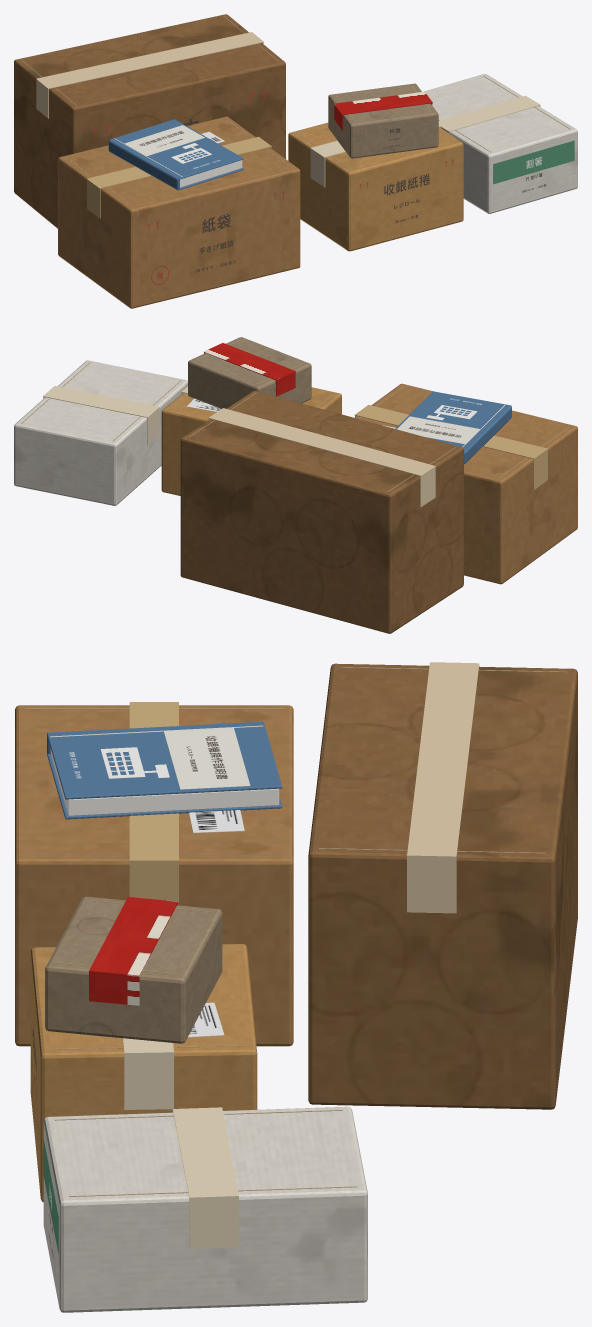
Rendered from tillboxes.glb.
3 renders of one model, top to bottom at view 1: azimuth 30°, elevation 25°; view 2: azimuth 150°, elevation 25°; view 3: azimuth 270°, elevation 25°, orthographic. The views are drawn at different scales.
Parts seen in each view (by area): view 1: TillBoxBags, TillBoxNapkins, TillBoxRolls, TillBoxChopsticks, TillBoxCoasters, TillBoxNapkinsTape, ManualCoverTop, TillBoxChopsticksBand, TillBoxChopsticksTape, TillBoxBagsTape, TillBoxCoastersTape, ManualBand (+6 smaller); view 2: TillBoxNapkins, TillBoxChopsticks, TillBoxBags, TillBoxCoasters, TillBoxRolls, TillBoxNapkinsTape, ManualCoverTop, TillBoxChopsticksTape, TillBoxBagsTape, TillBoxCoastersTape, ManualBand, ManualSpine (+2 smaller); view 3: TillBoxNapkins, TillBoxChopsticks, TillBoxBags, TillBoxRolls, TillBoxCoasters, TillBoxNapkinsTape, ManualCoverTop, TillBoxChopsticksTape, ManualBand, TillBoxCoastersTape, ManualPages, TillBoxBagsTape (+9 smaller).
Part boxes in pixels (x1,y1,x2,y2): TillBoxBags: (58, 116, 300, 308); TillBoxNapkins: (14, 14, 285, 228); TillBoxRolls: (288, 122, 463, 251); TillBoxChopsticks: (424, 74, 577, 213); TillBoxCoasters: (328, 83, 438, 158); TillBoxNapkinsTape: (36, 32, 263, 88); ManualCoverTop: (109, 119, 243, 179); TillBoxChopsticksBand: (493, 140, 574, 184); TillBoxChopsticksTape: (438, 95, 540, 131); TillBoxBagsTape: (86, 136, 271, 188); TillBoxCoastersTape: (334, 91, 432, 115); ManualBand: (124, 125, 204, 156); TillBoxNapkins: (180, 391, 463, 633); TillBoxChopsticks: (14, 360, 187, 505); TillBoxBags: (354, 383, 577, 584); TillBoxCoasters: (188, 337, 311, 408); TillBoxRolls: (161, 387, 341, 495); TillBoxNapkinsTape: (208, 408, 435, 476); ManualCoverTop: (395, 391, 511, 452); TillBoxChopsticksTape: (43, 386, 159, 417); TillBoxBagsTape: (355, 405, 547, 459); TillBoxCoastersTape: (204, 343, 295, 380); ManualBand: (397, 416, 479, 444); ManualSpine: (464, 406, 511, 463); TillBoxNapkins: (308, 663, 577, 1109); TillBoxChopsticks: (43, 1106, 367, 1312); TillBoxBags: (15, 705, 293, 1046); TillBoxRolls: (30, 944, 257, 1202); TillBoxCoasters: (45, 896, 222, 1043); TillBoxNapkinsTape: (407, 662, 479, 857); ManualCoverTop: (47, 721, 282, 799); TillBoxChopsticksTape: (172, 1107, 238, 1198); ManualBand: (164, 728, 250, 789); TillBoxCoastersTape: (89, 897, 178, 976); ManualPages: (50, 748, 279, 816); TillBoxBagsTape: (129, 702, 178, 861).
Size of the model in its own units: 0.9733 by 0.2712 by 0.5466.
Materials: 18 (8 with a texture image).
